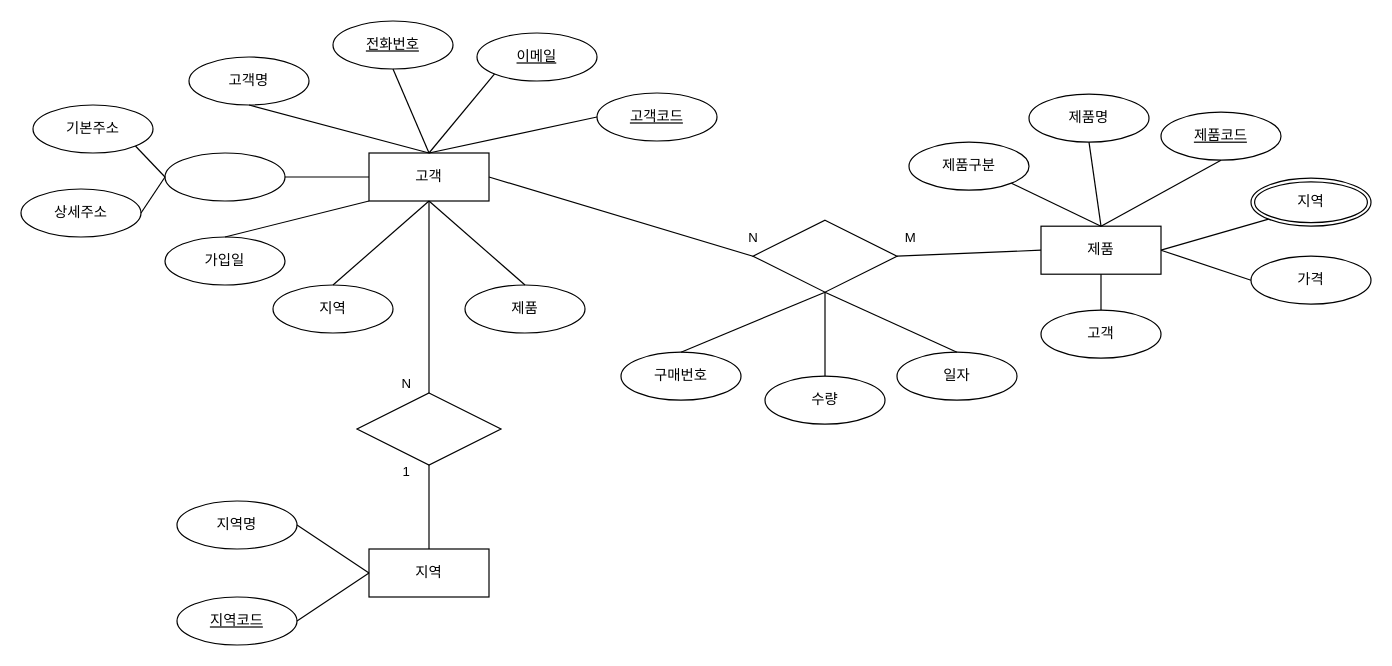
This 1392x666 diagram has some shape labels left out. The shapes that lost their labels are listed below. From the top down, each one's centre as x and y in pixels, then its label:
At (x=224, y=176): "주소".
At (x=824, y=255): "구매".
At (x=428, y=428): "관리".
